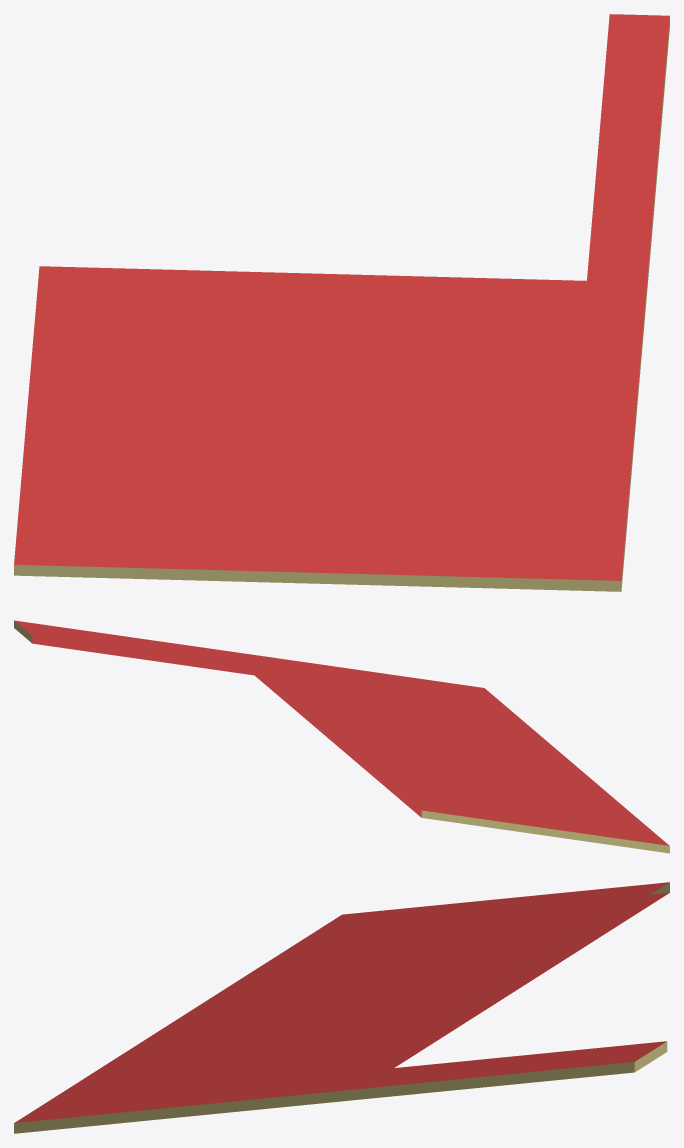
3 renders of one model, top to bottom at view 1: azimuth 30°, elevation 25°; view 2: azimuth 150°, elevation 25°; view 3: azimuth 270°, elevation 25°, orthographic. The views are drawn at different scales.
Size of the model in its own units: 7.71 by 5.58 by 2.31.
